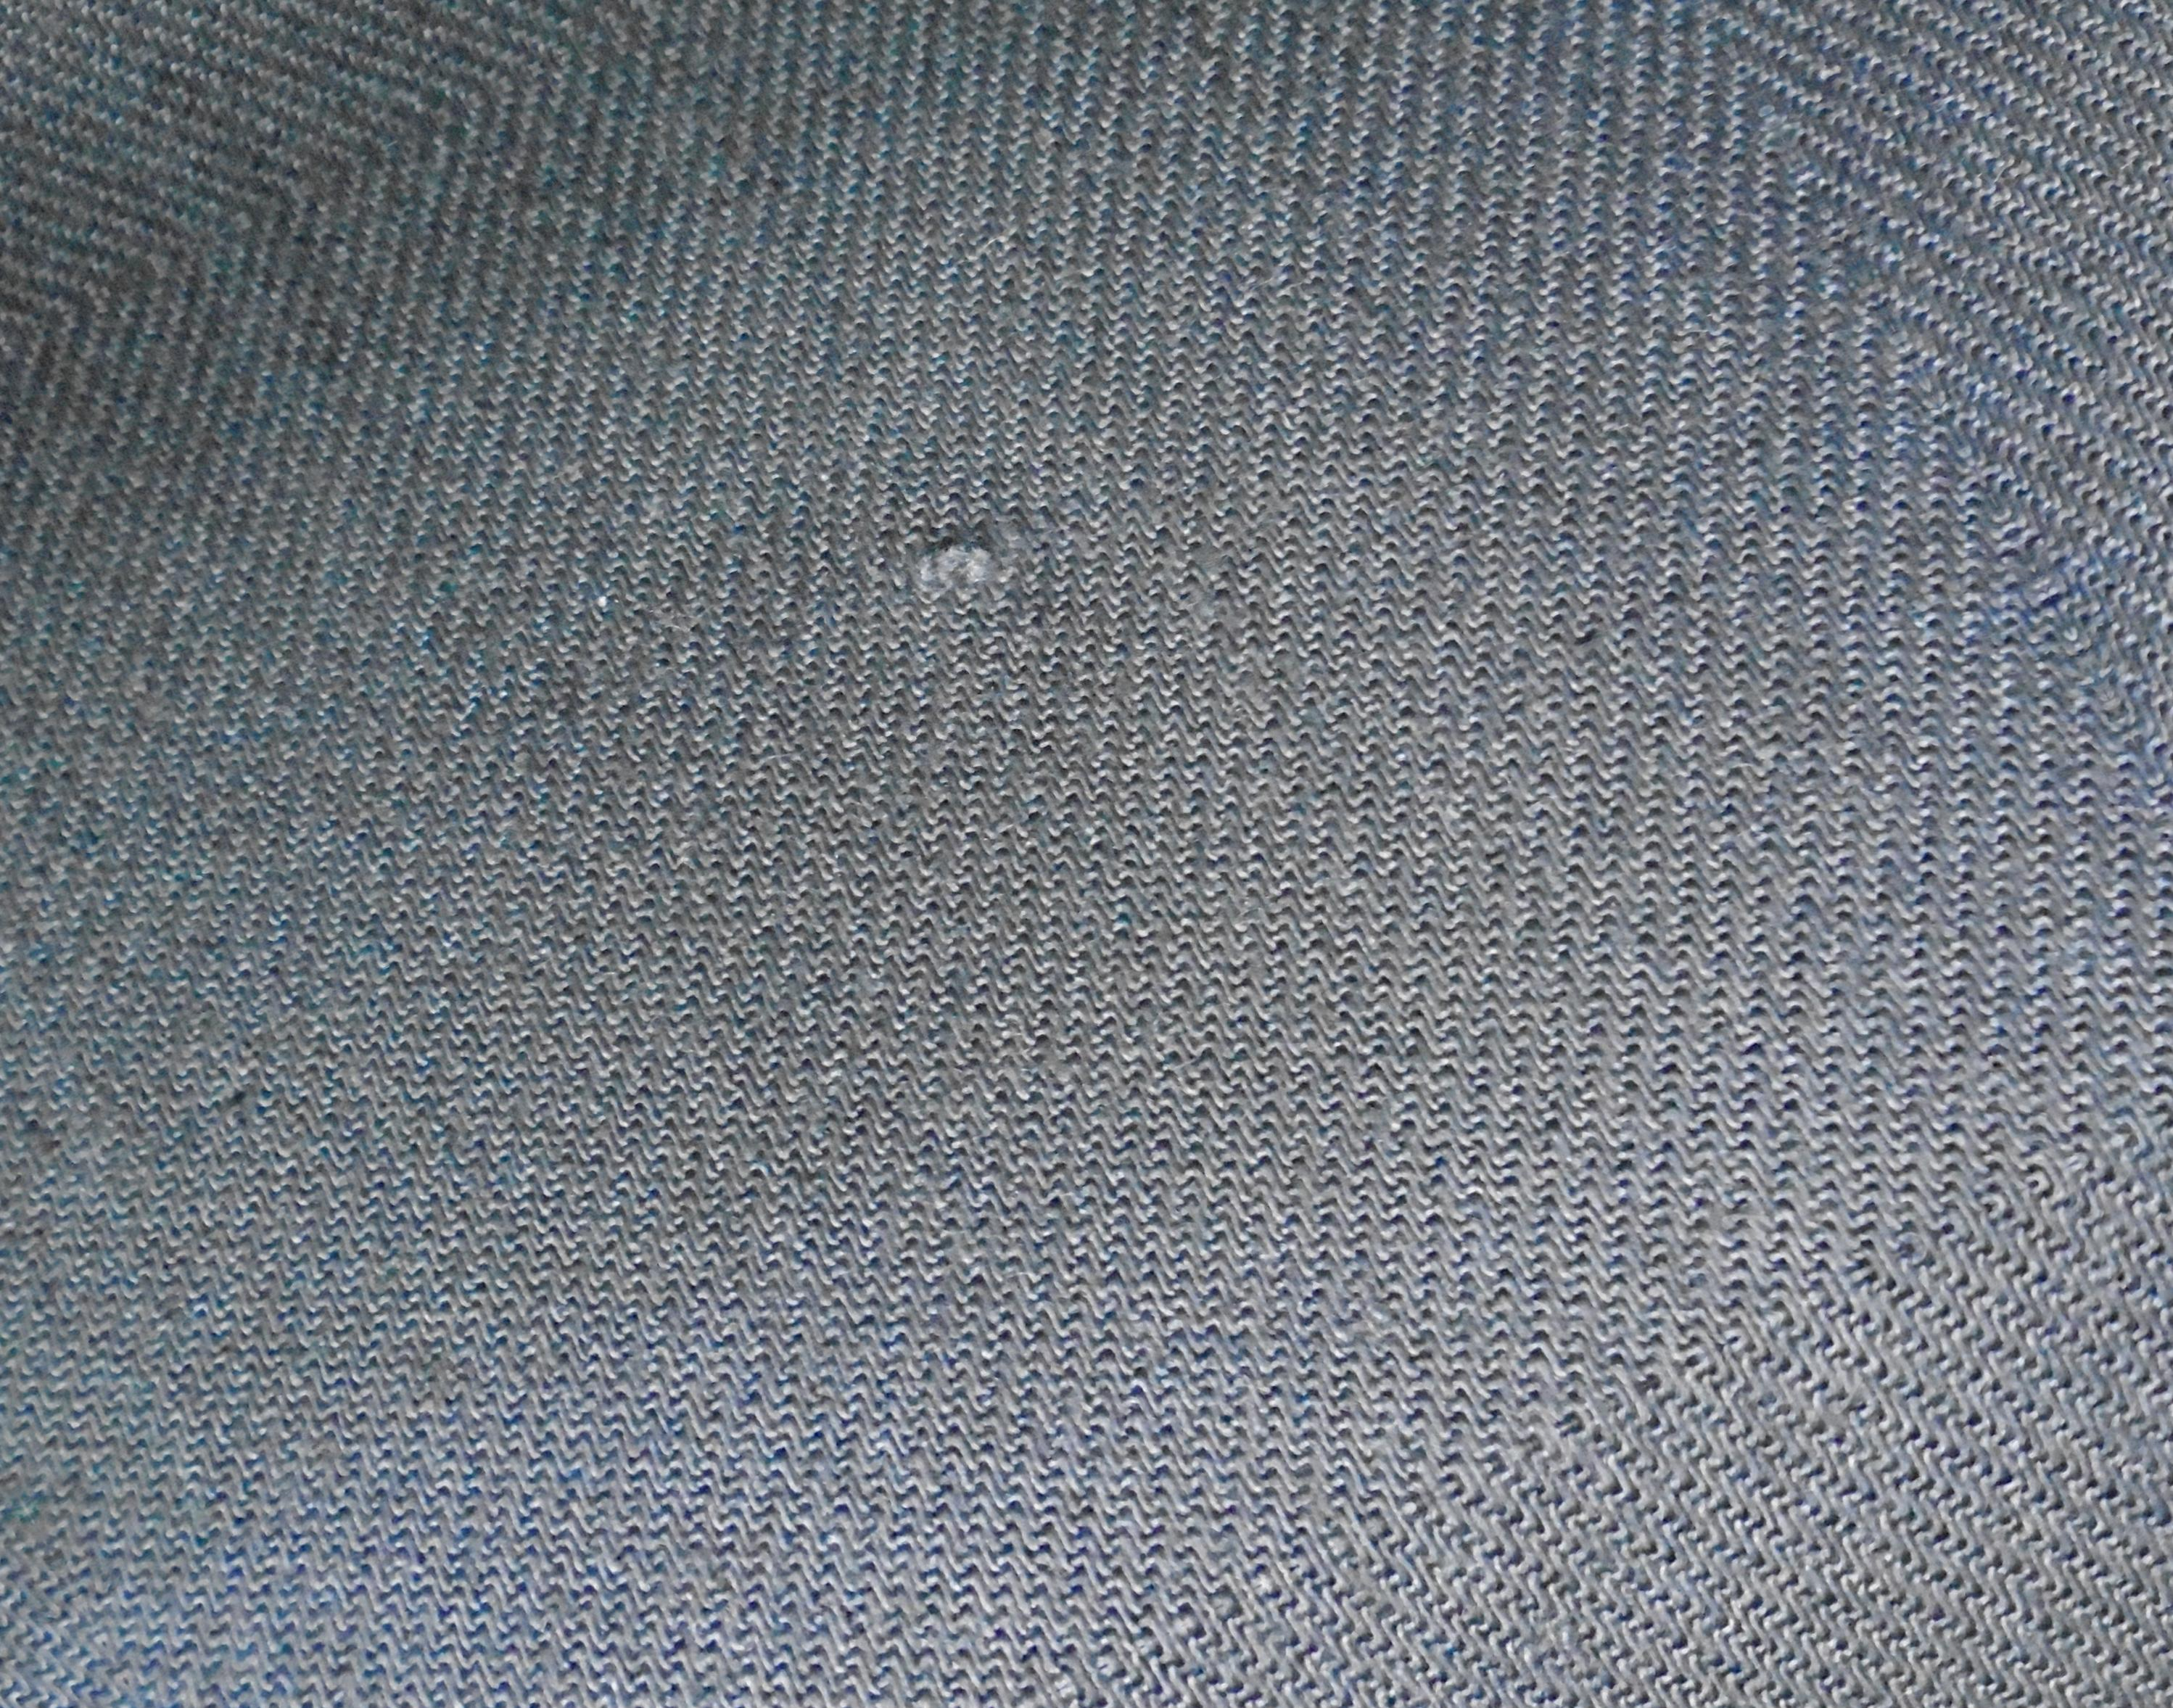knot: (868, 499, 1034, 646)
